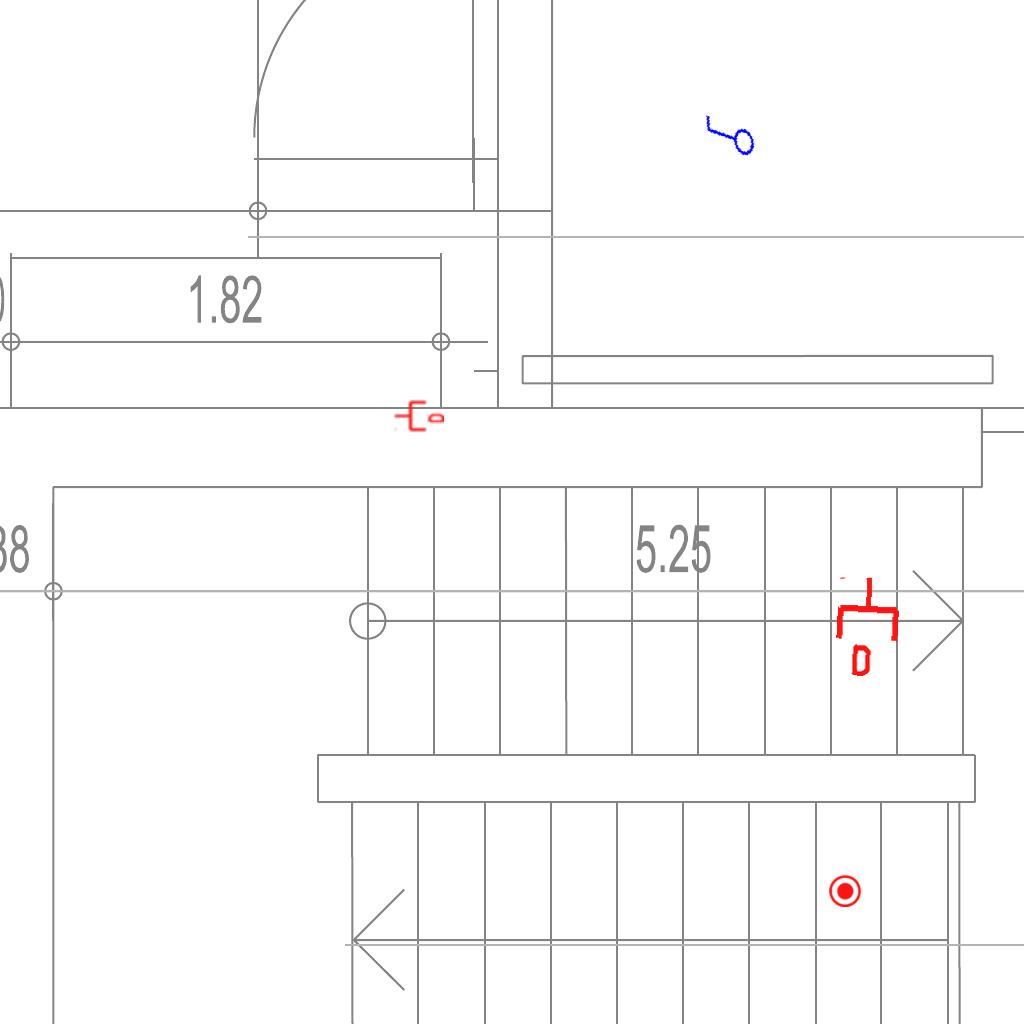Ausschalter: (698, 103, 760, 171)
Datenanschluss_einfach: (830, 574, 905, 678), (394, 399, 444, 433)
Taster: (829, 874, 862, 907)
